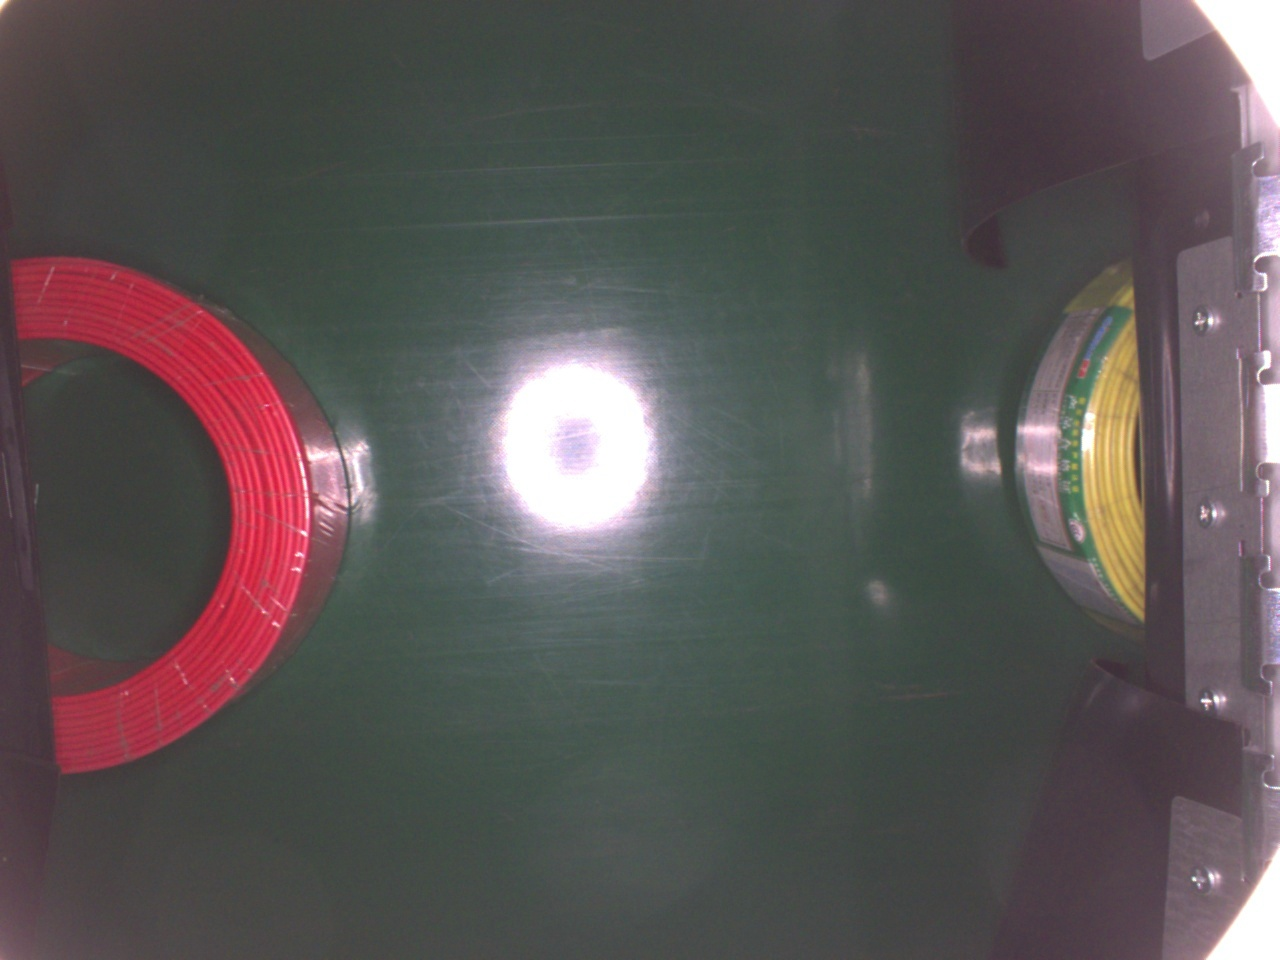red: (6, 256, 346, 779)
yellow: (1020, 251, 1146, 636)
